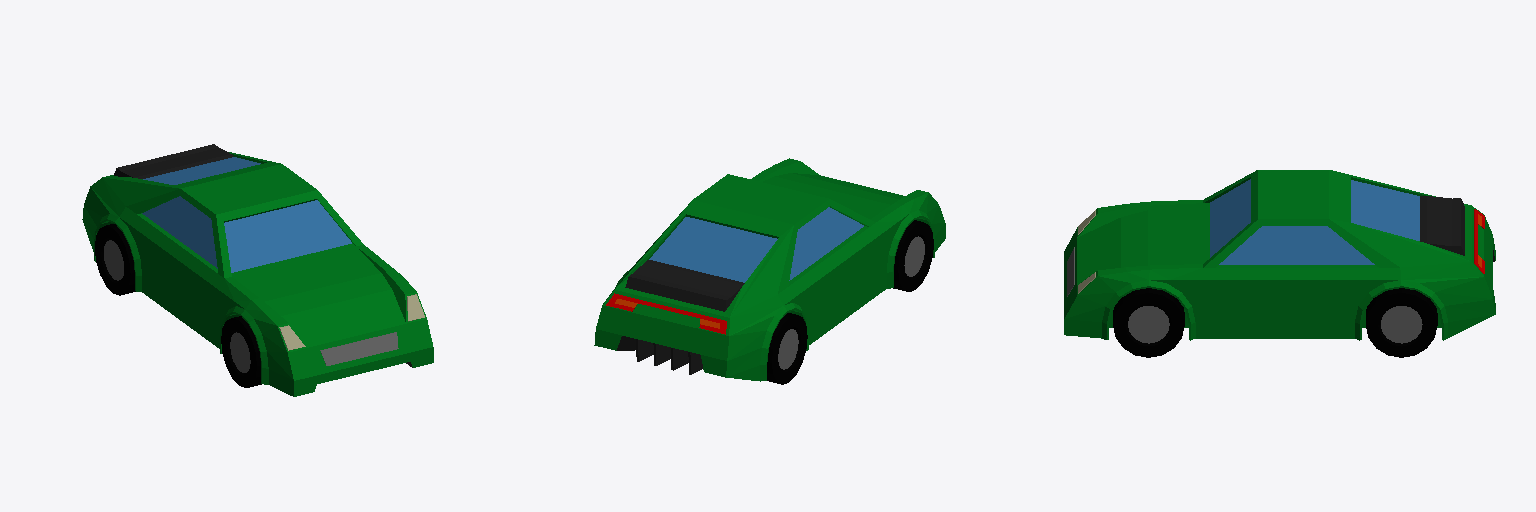
The model's file is car-parsche-sport-green.obj.
The picture shows the model from 3 angles: view 1: azimuth 30°, elevation 25°; view 2: azimuth 150°, elevation 25°; view 3: azimuth 270°, elevation 25°; orthographic projection.
Parts seen in each view (by area): view 1: car-parsche-sport-green_Cube.867; view 2: car-parsche-sport-green_Cube.867; view 3: car-parsche-sport-green_Cube.867.
Boxes of the visible parts, x1=… form: car-parsche-sport-green_Cube.867: x1=82, y1=144, x2=433, y2=396; car-parsche-sport-green_Cube.867: x1=594, y1=158, x2=945, y2=384; car-parsche-sport-green_Cube.867: x1=1064, y1=170, x2=1495, y2=357.
Size of the model in its own units: 0.954 by 0.681 by 2.16.